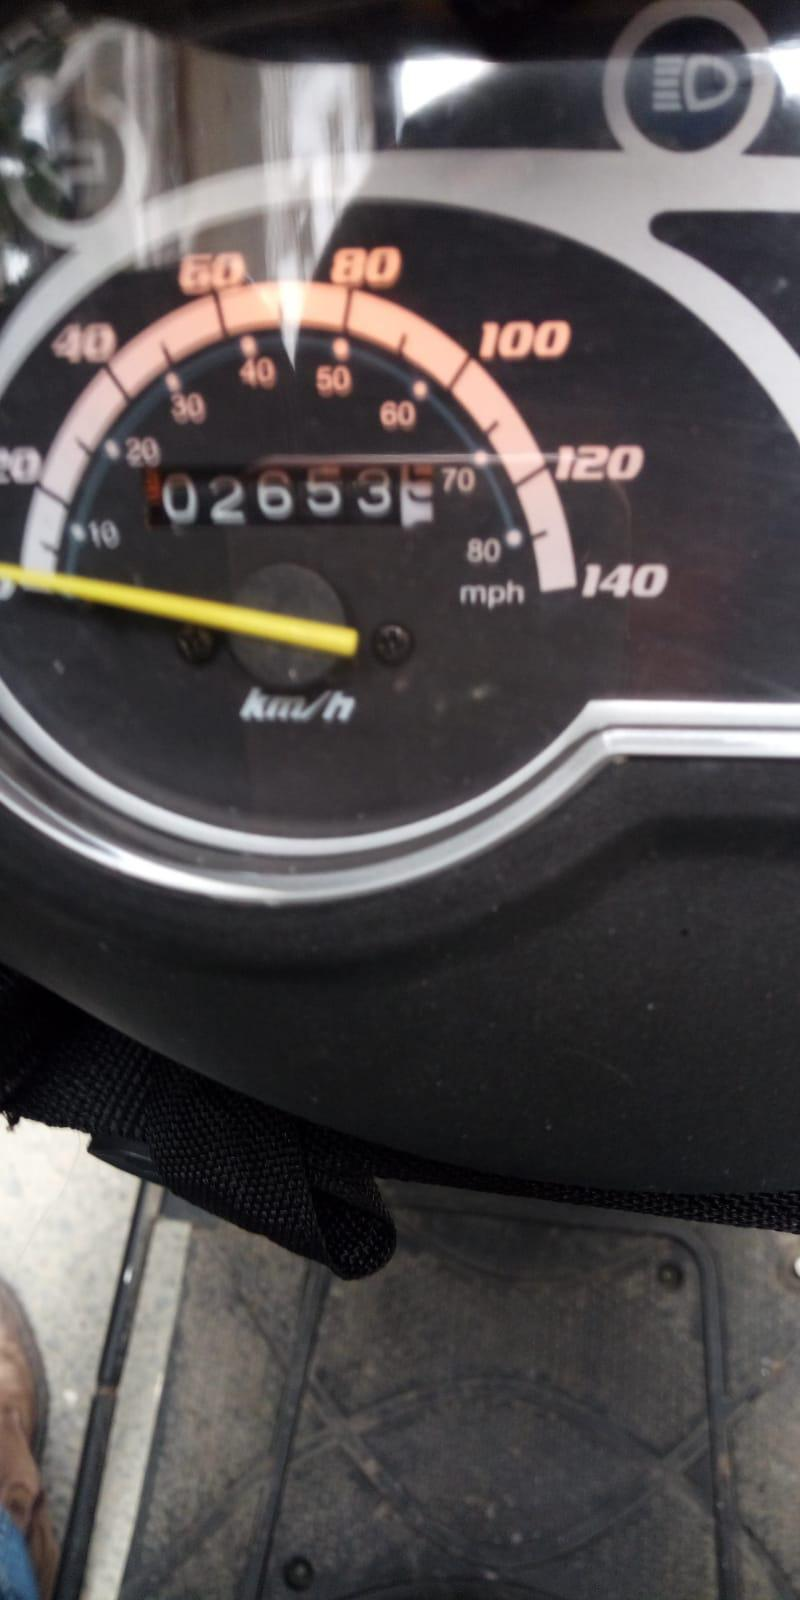0: (162, 469, 199, 524)
2: (206, 471, 247, 524)
3: (354, 467, 393, 518)
5: (303, 463, 345, 518), (406, 457, 437, 502)
6: (256, 463, 297, 522)
odometer: (140, 456, 444, 545)
